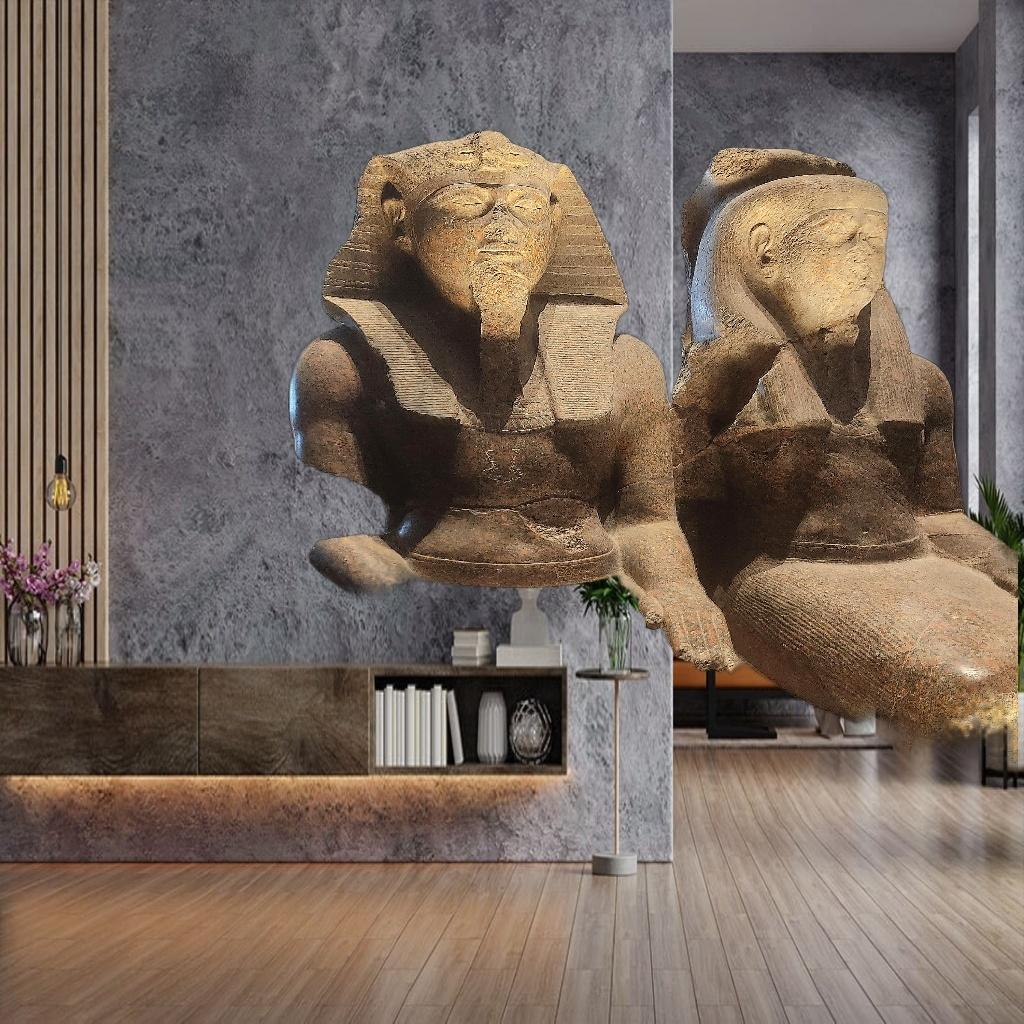Seated Statue of Ramesses II and God Ptah: (288, 131, 1018, 1021)
